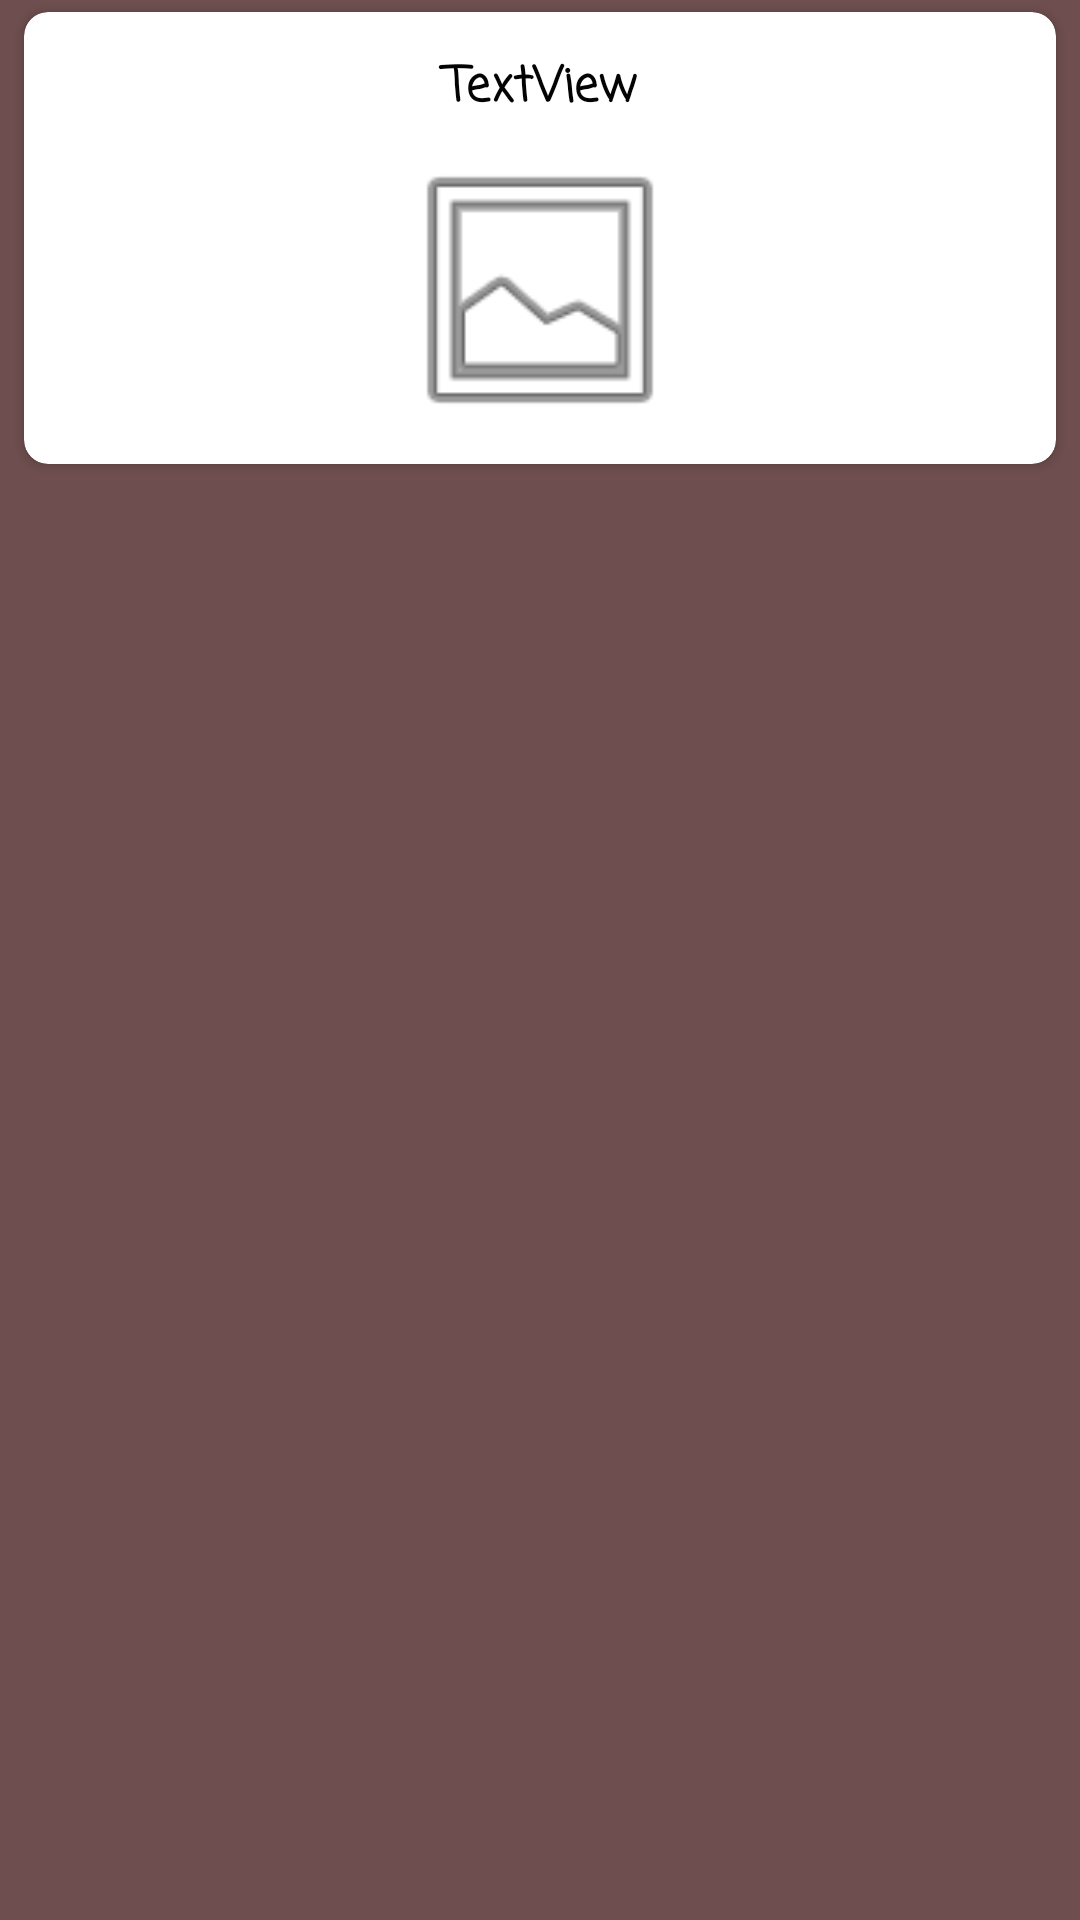

Screen size 1080w x 1920h. Icon name, then its box in pixels as (x1, y1, x2, y2):
gallery: (427, 177, 653, 403)
